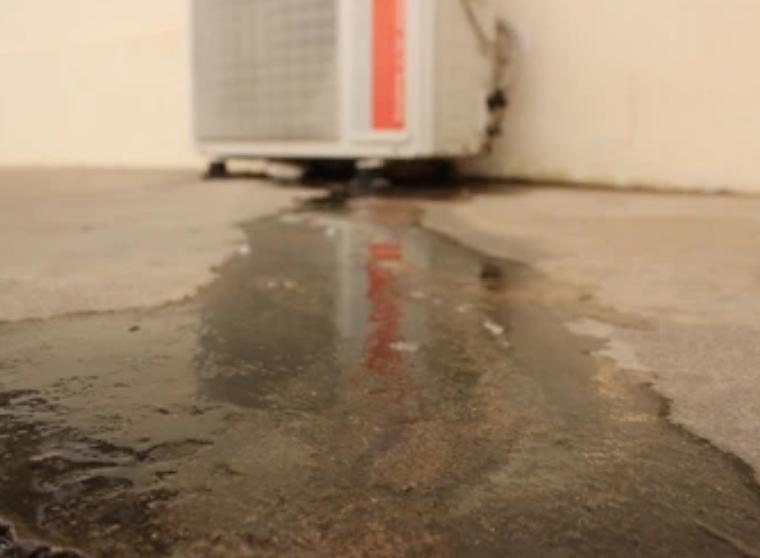water accumulation: (1, 175, 760, 558)
